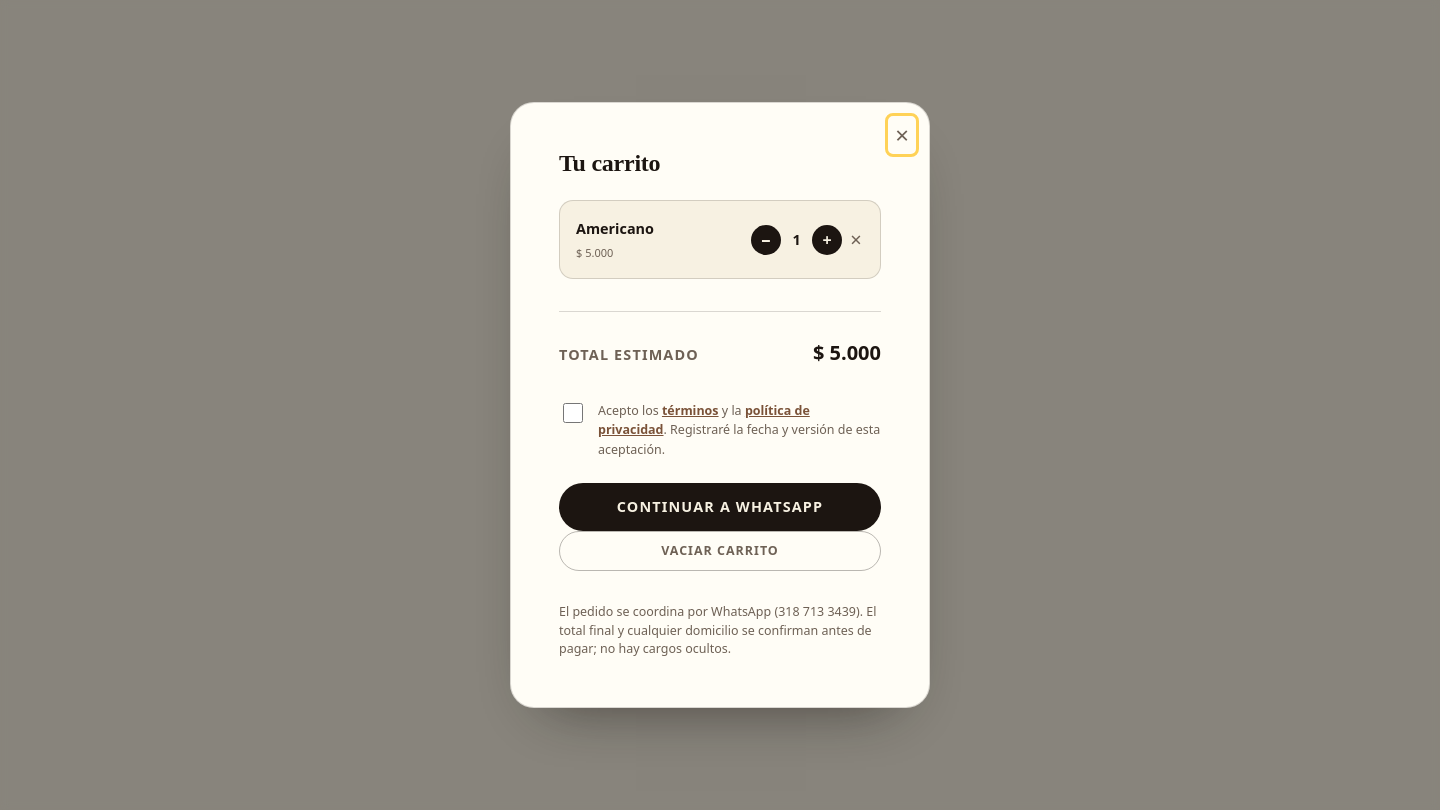
Test case: CartDrawer › reduce la cantidad y quita el producto al llegar a cero
Click the button named "Reducir Americano": (766, 240) 751,224 -> 781,254
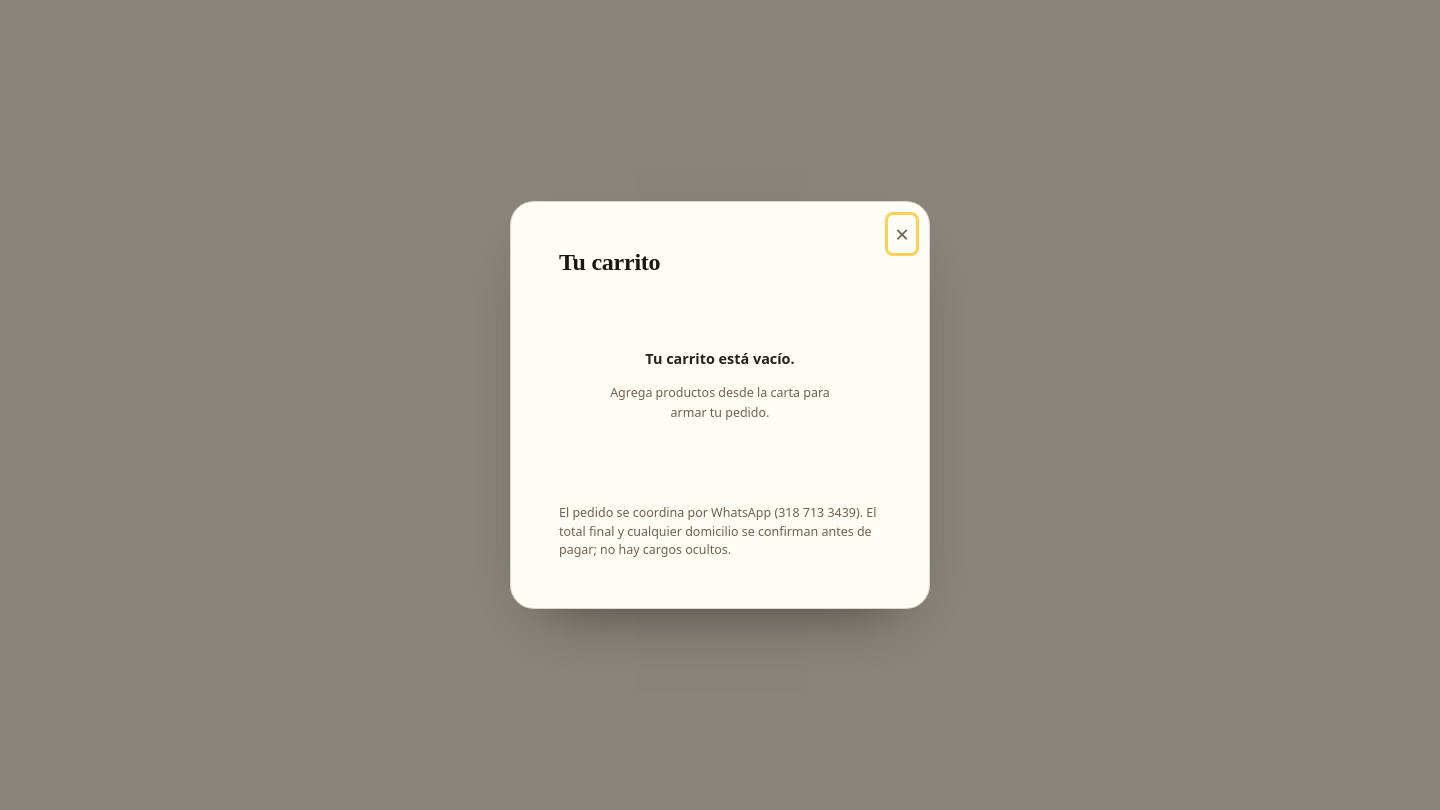
Check: the text "Tu carrito está vacío." is shown, box 645,347 -> 795,371
